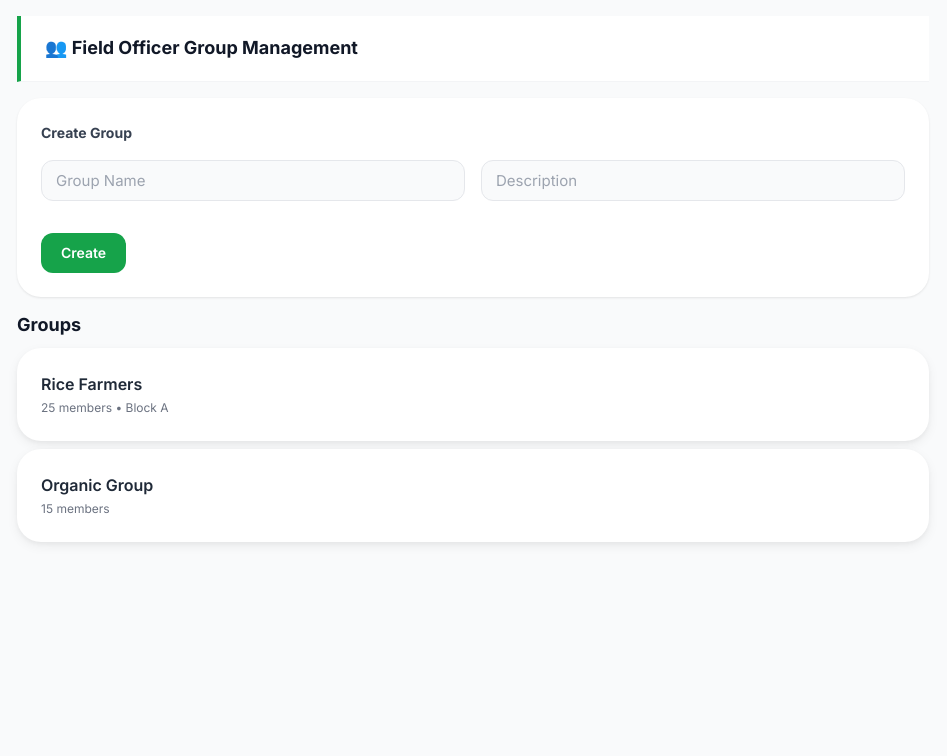
GroupManagementPage › shows group analytics when group is selected
Click the element with test id "group-g1".
click(473, 395)  # box [17,348,929,441]
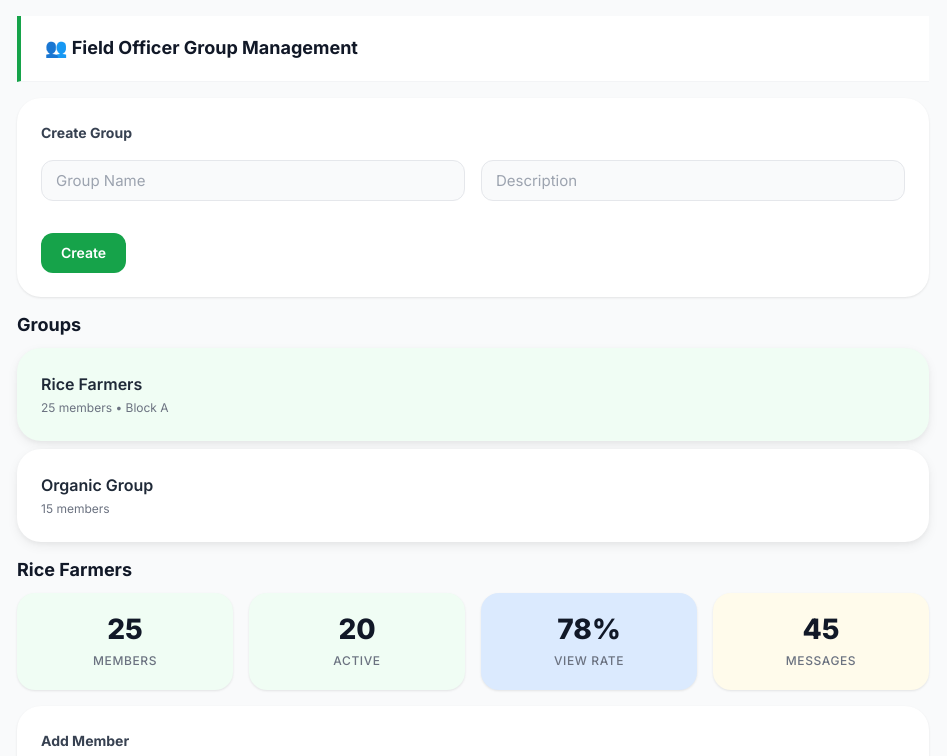
expect the element with test id "group-analytics" shows "25": met, box [107,612,143,646]
expect the element with test id "group-analytics" shows "78%": met, box [17,593,929,690]
